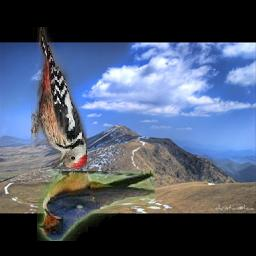Swallow: (37, 171, 155, 241)
Woodpecker: (31, 27, 87, 169)
